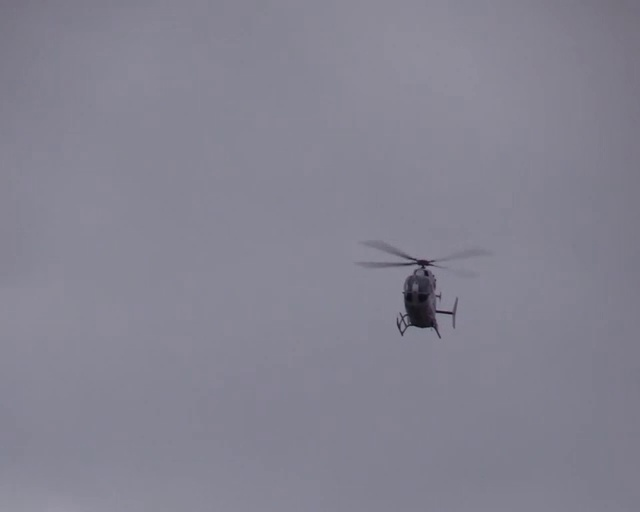HELICOPTER: (353, 238, 493, 338)
